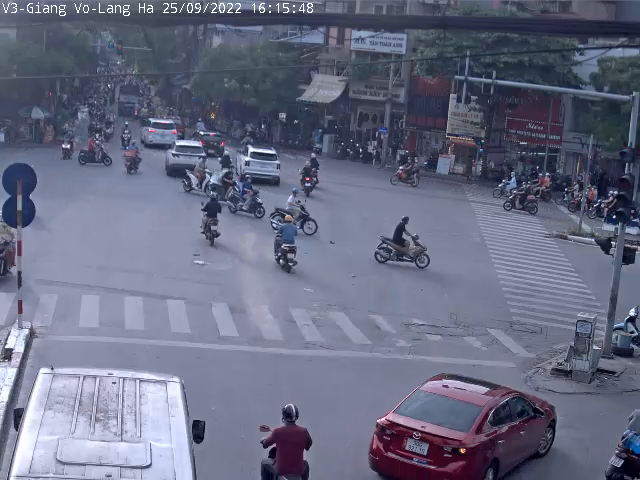người trên xe: (243, 403, 314, 480), (373, 215, 432, 273), (600, 401, 640, 480), (272, 187, 319, 239), (266, 216, 307, 275), (183, 190, 222, 249), (226, 175, 268, 221), (74, 130, 116, 173), (183, 155, 217, 200), (118, 137, 145, 183), (389, 157, 422, 188), (52, 129, 79, 163), (294, 159, 315, 199), (216, 148, 237, 183), (307, 150, 325, 188)
